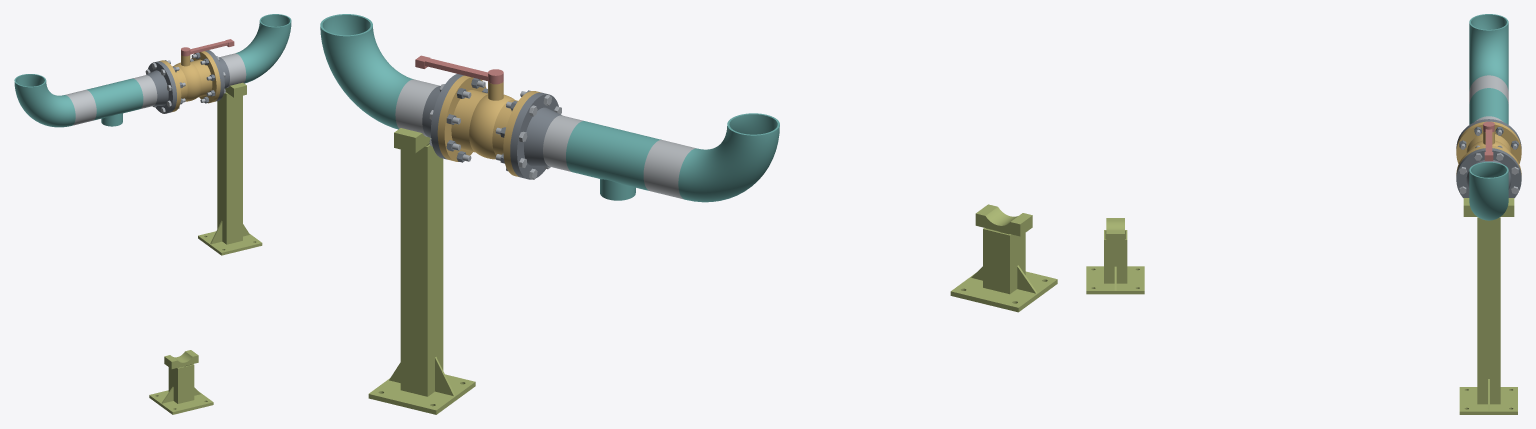
File: step_73.glb
3 renders of one model, left to right at view 1: azimuth 30°, elevation 25°; view 2: azimuth 150°, elevation 25°; view 3: azimuth 270°, elevation 25°, orthographic. The views are drawn at different scales.
Parts seen in each view (by area): view 1: part__pipe support SP-101, tall, part__6" elbow bottom left, part__pipe support SP-101, short, part__6" elbow bottom right, part__6" ball valve body BV-101, part__6" x 4" reducing tee, part__6" flange, ball valve inlet, part__6" pipe, tee to the left bend, 128 long, part__6" pipe, ball valve to the right bend, 99 long, part__6" pipe, tee to the ball valve, 85 long, part__6" flange, ball valve outlet, part__6" ball valve lever; view 2: part__pipe support SP-101, tall, part__6" elbow bottom left, part__pipe support SP-101, short, part__6" elbow bottom right, part__6" ball valve body BV-101, part__6" x 4" reducing tee, part__6" flange, ball valve inlet, part__6" pipe, tee to the left bend, 128 long, part__6" pipe, ball valve to the right bend, 99 long, part__6" pipe, tee to the ball valve, 85 long, part__6" flange, ball valve outlet, part__6" ball valve lever; view 3: part__pipe support SP-101, tall, part__pipe support SP-101, short, part__6" elbow bottom left, part__6" elbow bottom right, part__6" ball valve body BV-101, part__6" flange, ball valve outlet, part__6" x 4" reducing tee, part__6" pipe, tee to the left bend, 128 long.
Boxes of the visible parts, x1=… form: part__pipe support SP-101, tall: x1=198, y1=82, x2=262, y2=255; part__6" elbow bottom left: x1=14, y1=74, x2=75, y2=127; part__pipe support SP-101, short: x1=149, y1=350, x2=213, y2=414; part__6" elbow bottom right: x1=236, y1=14, x2=291, y2=83; part__6" ball valve body BV-101: x1=159, y1=51, x2=220, y2=112; part__6" x 4" reducing tee: x1=86, y1=78, x2=143, y2=126; part__6" flange, ball valve inlet: x1=146, y1=61, x2=176, y2=113; part__6" pipe, tee to the left bend, 128 long: x1=65, y1=90, x2=96, y2=125; part__6" pipe, ball valve to the right bend, 99 long: x1=220, y1=53, x2=246, y2=87; part__6" pipe, tee to the ball valve, 85 long: x1=132, y1=75, x2=157, y2=108; part__6" flange, ball valve outlet: x1=205, y1=50, x2=229, y2=101; part__6" ball valve lever: x1=181, y1=39, x2=234, y2=56; part__pipe support SP-101, tall: x1=368, y1=128, x2=475, y2=414; part__6" elbow bottom left: x1=678, y1=113, x2=779, y2=202; part__pipe support SP-101, short: x1=950, y1=204, x2=1057, y2=312; part__6" elbow bottom right: x1=320, y1=14, x2=413, y2=129; part__6" ball valve body BV-101: x1=437, y1=75, x2=540, y2=177; part__6" x 4" reducing tee: x1=566, y1=121, x2=661, y2=200; part__6" flange, ball valve inlet: x1=510, y1=92, x2=562, y2=179; part__6" pipe, tee to the left bend, 128 long: x1=643, y1=140, x2=695, y2=199; part__6" pipe, ball valve to the right bend, 99 long: x1=395, y1=79, x2=440, y2=136; part__6" pipe, tee to the ball valve, 85 long: x1=543, y1=115, x2=583, y2=171; part__6" flange, ball valve outlet: x1=422, y1=74, x2=463, y2=159; part__6" ball valve lever: x1=415, y1=55, x2=503, y2=84; part__pipe support SP-101, tall: x1=1459, y1=198, x2=1517, y2=414; part__pipe support SP-101, short: x1=1086, y1=218, x2=1144, y2=294; part__6" elbow bottom left: x1=1469, y1=14, x2=1508, y2=90; part__6" elbow bottom right: x1=1469, y1=162, x2=1508, y2=220; part__6" ball valve body BV-101: x1=1456, y1=121, x2=1521, y2=174; part__6" flange, ball valve outlet: x1=1456, y1=148, x2=1521, y2=197; part__6" x 4" reducing tee: x1=1469, y1=88, x2=1508, y2=124; part__6" pipe, tee to the left bend, 128 long: x1=1469, y1=75, x2=1508, y2=103.
Size of the model in its own units: 1709 by 1229 by 1865.
